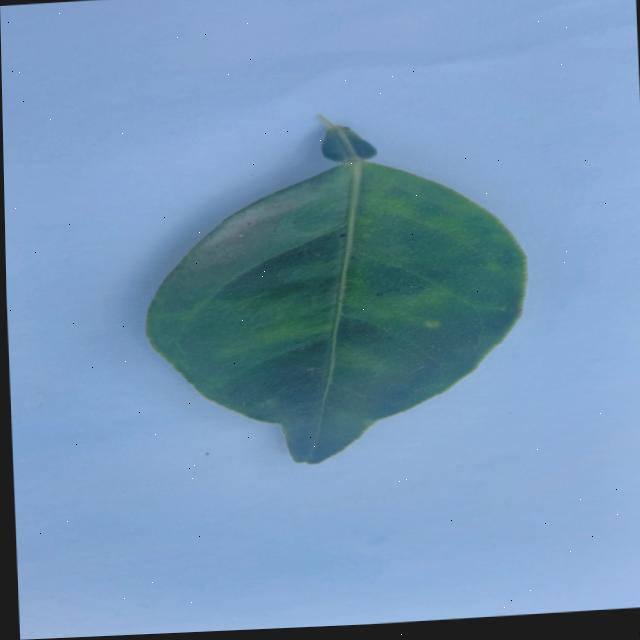greening: (146, 117, 526, 463)
